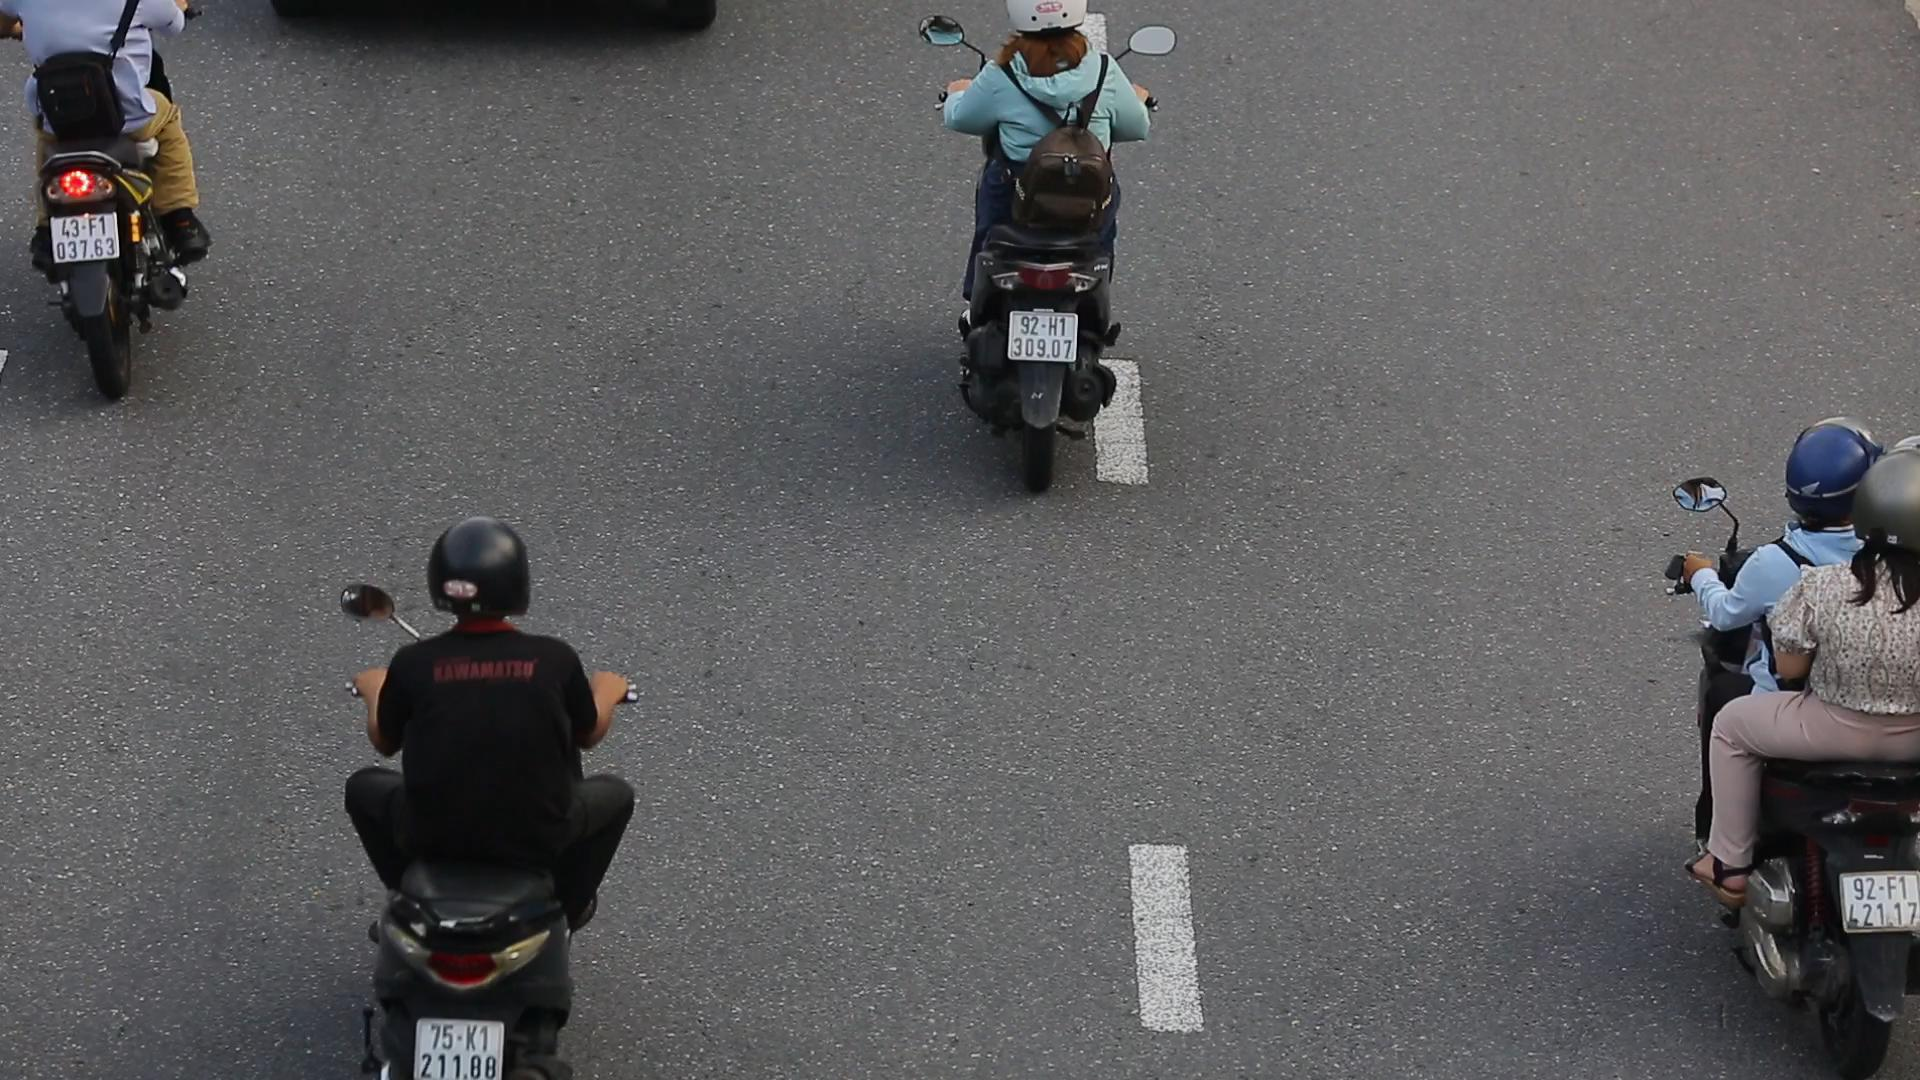motobike: (332, 510, 647, 1080)
